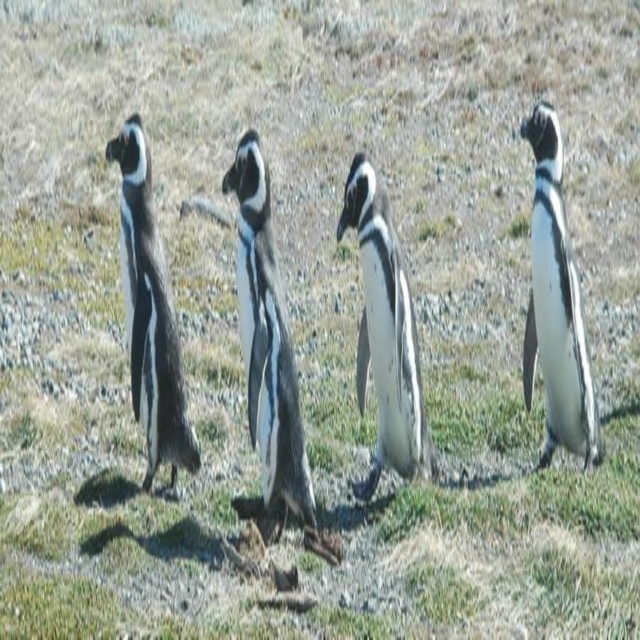Penguin: (102, 99, 201, 517), (221, 129, 316, 547), (336, 147, 437, 484), (521, 93, 601, 472)
